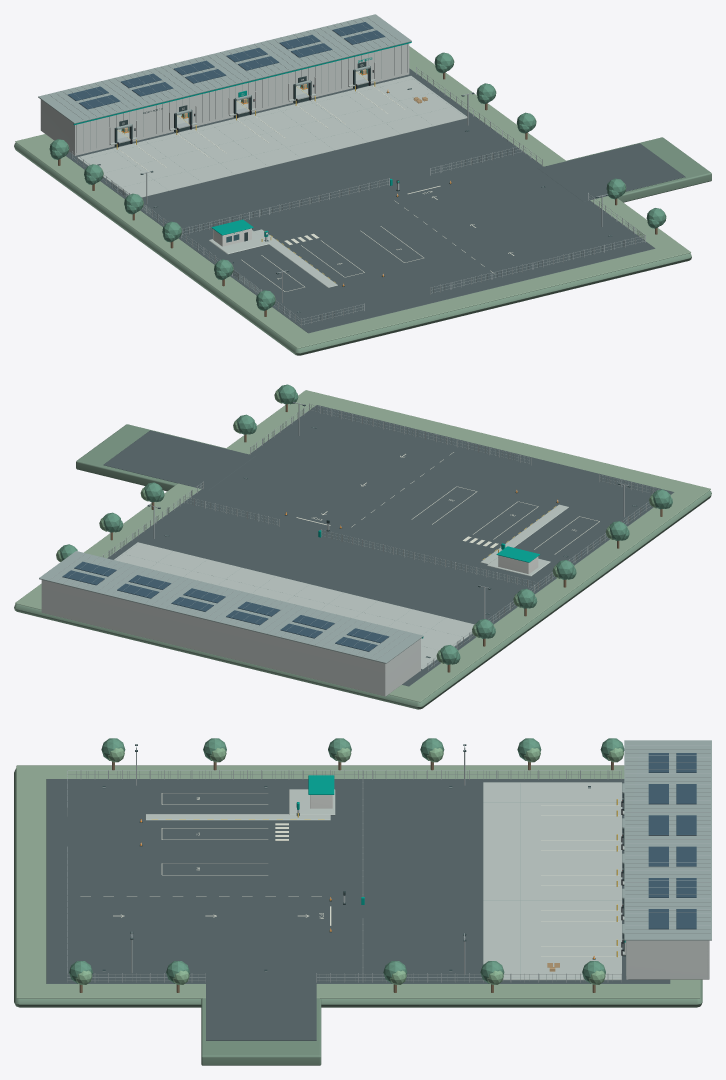
Rendered from yard-lunch.glb.
3 renders of one model, top to bottom at view 1: azimuth 30°, elevation 25°; view 2: azimuth 150°, elevation 25°; view 3: azimuth 270°, elevation 25°, orthographic. The views are drawn at different scales.
Parts seen in each view (by area): view 1: Asphalt, North apron, Meadow, Apron joint, Warehouse back, Diorama base, Roof seam, Solar module, Icosphere, Teal parapet, Dock jamb, Carton strap; view 2: Asphalt, Meadow, Warehouse back, Apron joint, North apron, Diorama base, Roof seam, Solar module, Icosphere, Carton strap, Icosphere.002; view 3: Asphalt, North apron, Meadow, Apron joint, Diorama base, Roof seam, Solar module, Warehouse back, Icosphere, Icosphere.002, Carton strap, Teal parapet.
Boxes of the visible parts, bbox=[...] form: Asphalt: bbox=[66, 68, 685, 333]; North apron: bbox=[78, 71, 467, 287]; Meadow: bbox=[15, 46, 690, 348]; Apron joint: bbox=[38, 14, 644, 324]; Warehouse back: bbox=[40, 43, 409, 155]; Diorama base: bbox=[14, 137, 711, 355]; Roof seam: bbox=[48, 17, 645, 326]; Solar module: bbox=[67, 22, 385, 109]; Icosphere: bbox=[49, 52, 665, 310]; Teal parapet: bbox=[73, 41, 411, 236]; Dock jamb: bbox=[97, 61, 612, 312]; Carton strap: bbox=[117, 71, 514, 291]; Asphalt: bbox=[103, 405, 674, 686]; Meadow: bbox=[15, 390, 710, 702]; Warehouse back: bbox=[41, 580, 420, 696]; Apron joint: bbox=[39, 405, 651, 668]; North apron: bbox=[114, 504, 568, 669]; Diorama base: bbox=[14, 424, 711, 709]; Roof seam: bbox=[50, 402, 659, 670]; Solar module: bbox=[62, 561, 389, 651]; Icosphere: bbox=[59, 384, 672, 664]; Carton strap: bbox=[296, 452, 599, 554]; Icosphere.002: bbox=[56, 389, 656, 663]; Asphalt: bbox=[46, 779, 670, 1040]; North apron: bbox=[145, 782, 625, 979]; Meadow: bbox=[16, 765, 700, 998]; Apron joint: bbox=[76, 740, 711, 981]; Diorama base: bbox=[14, 768, 702, 1065]; Roof seam: bbox=[67, 744, 710, 982]; Solar module: bbox=[648, 753, 696, 929]; Warehouse back: bbox=[624, 940, 709, 979]; Icosphere: bbox=[69, 738, 624, 983]; Icosphere.002: bbox=[75, 748, 623, 984]; Carton strap: bbox=[80, 793, 619, 956]; Teal parapet: bbox=[297, 775, 625, 942].
Bounding box in the file's own units: 149 × 12.89 × 151.
